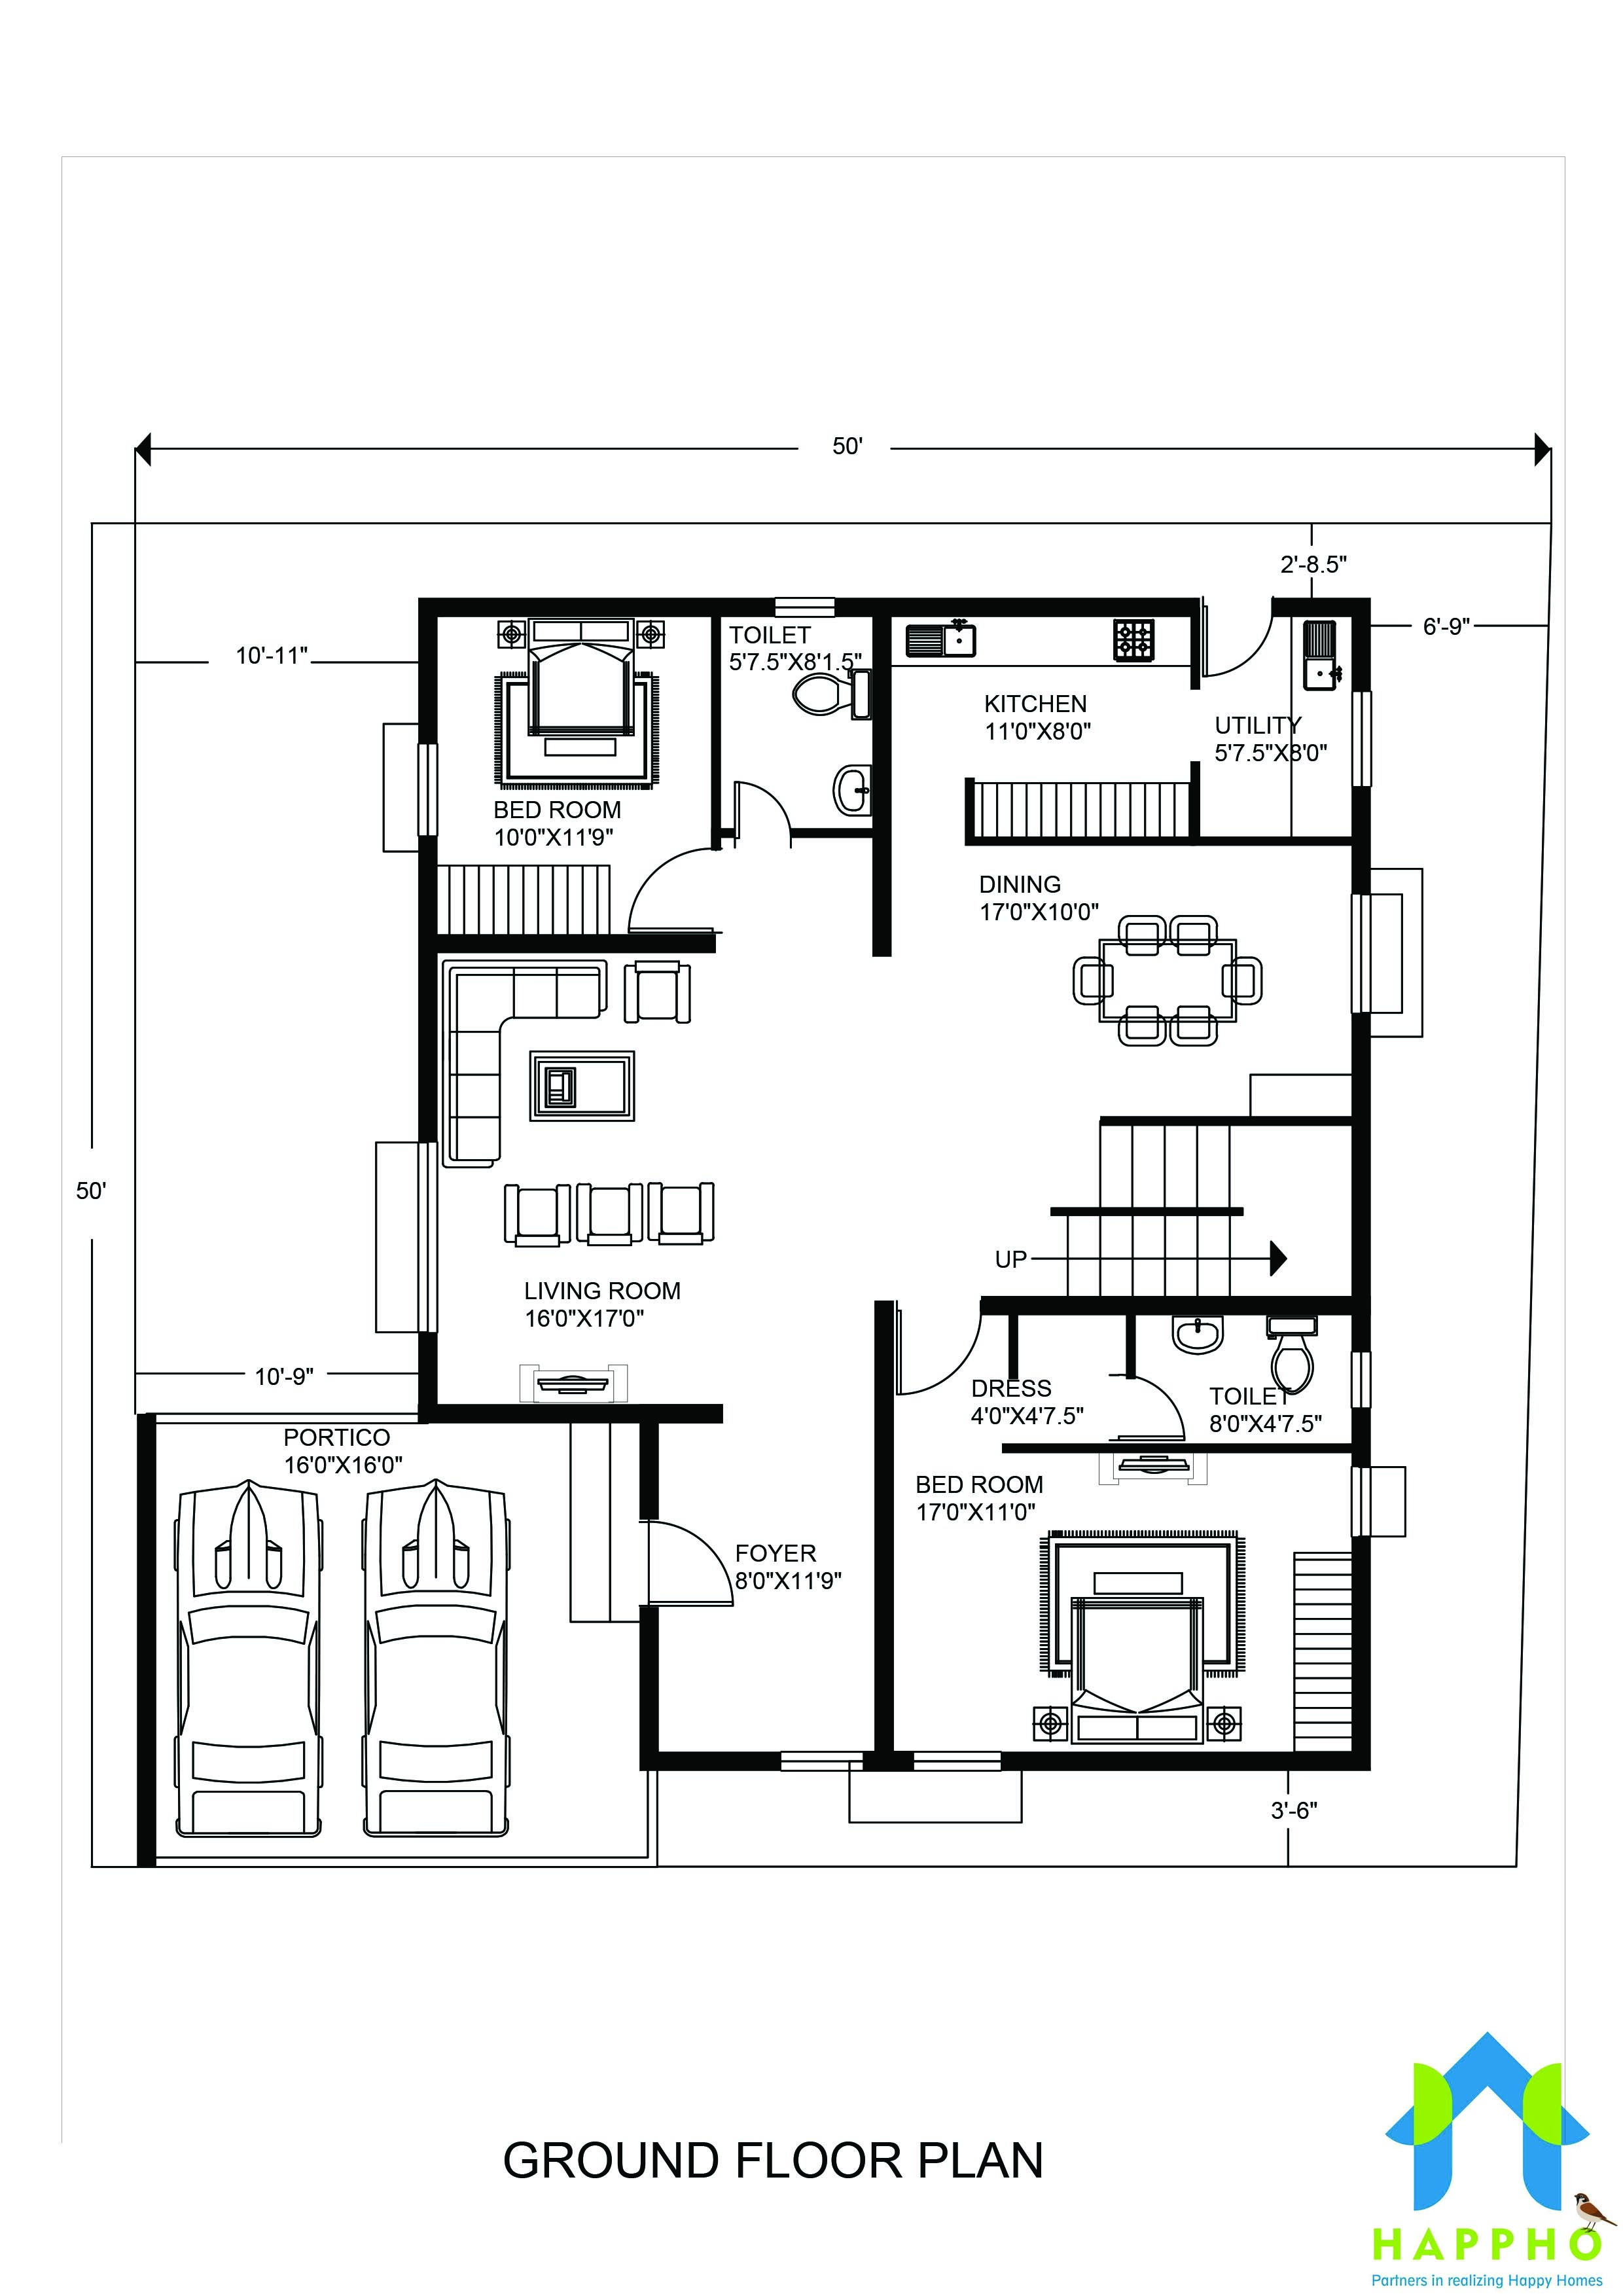room: (423, 942, 868, 1412), (887, 1446, 1361, 1767), (880, 838, 1351, 1140), (423, 606, 717, 956), (880, 608, 1205, 850), (1187, 601, 1360, 845), (720, 610, 884, 826), (1135, 1305, 1368, 1446)
